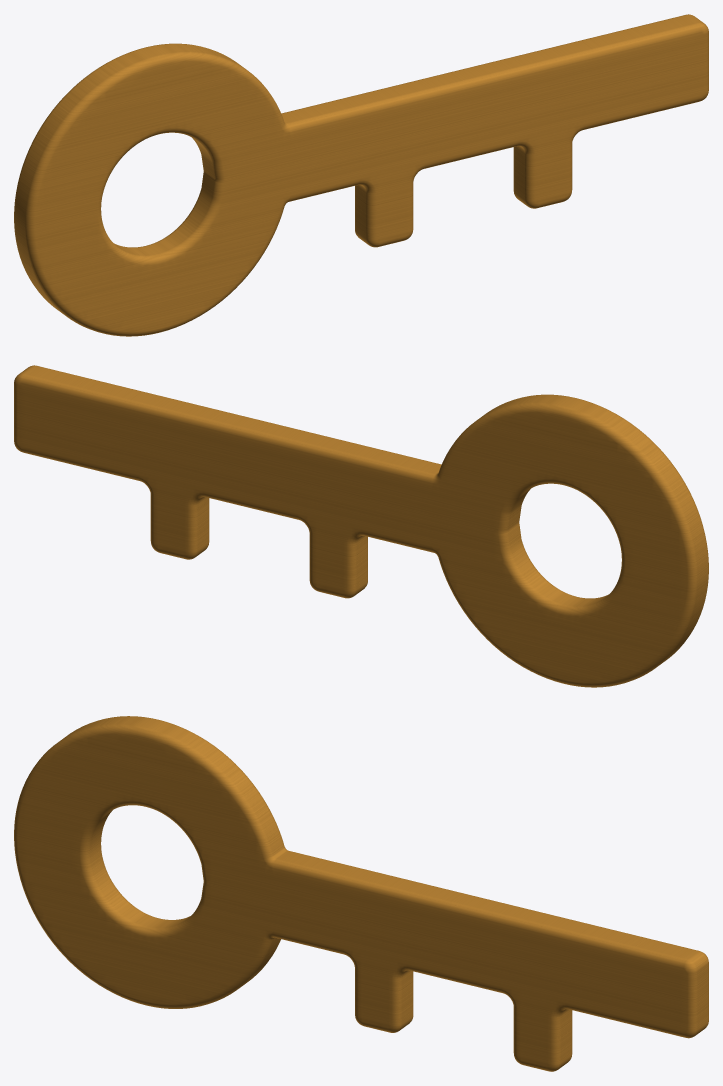
The model's file is ShadowKey_v4.obj.
3 views of the same model, one above another, from view 1: azimuth 30°, elevation 25°; view 2: azimuth 150°, elevation 25°; view 3: azimuth 330°, elevation 25° (orthographic).
Visible parts, largest first — view 1: ShadowKey_v4; view 2: ShadowKey_v4; view 3: ShadowKey_v4.
Part boxes in pixels (bbox=[...]): ShadowKey_v4: bbox=[14, 14, 708, 336]; ShadowKey_v4: bbox=[14, 365, 708, 687]; ShadowKey_v4: bbox=[14, 716, 708, 1071].
Bounding box in the file's own units: 0.3095 × 0.12 × 0.014.
1 material, 1 textured.
